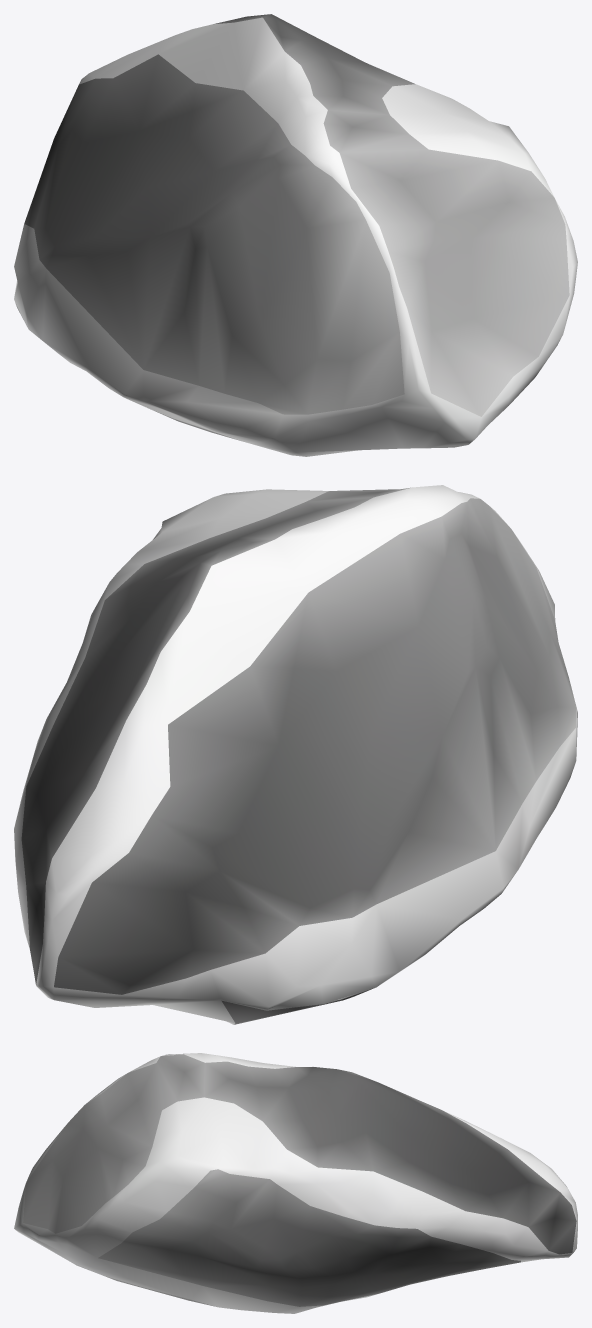
File: SM_Rock_05.fbx
The picture shows the model from 3 angles, top to bottom: view 1: azimuth 30°, elevation 25°; view 2: azimuth 150°, elevation 25°; view 3: azimuth 270°, elevation 25°; orthographic projection. The views are drawn at different scales.
Visible parts, largest first — view 1: SM_Rock_05; view 2: SM_Rock_05; view 3: SM_Rock_05.
Part boxes in pixels (x1=…): SM_Rock_05: x1=14, y1=14, x2=577, y2=456; SM_Rock_05: x1=14, y1=485, x2=577, y2=1024; SM_Rock_05: x1=14, y1=1053, x2=577, y2=1313.
Bounding box in the file's own units: 22.36 × 21.41 × 43.87.
